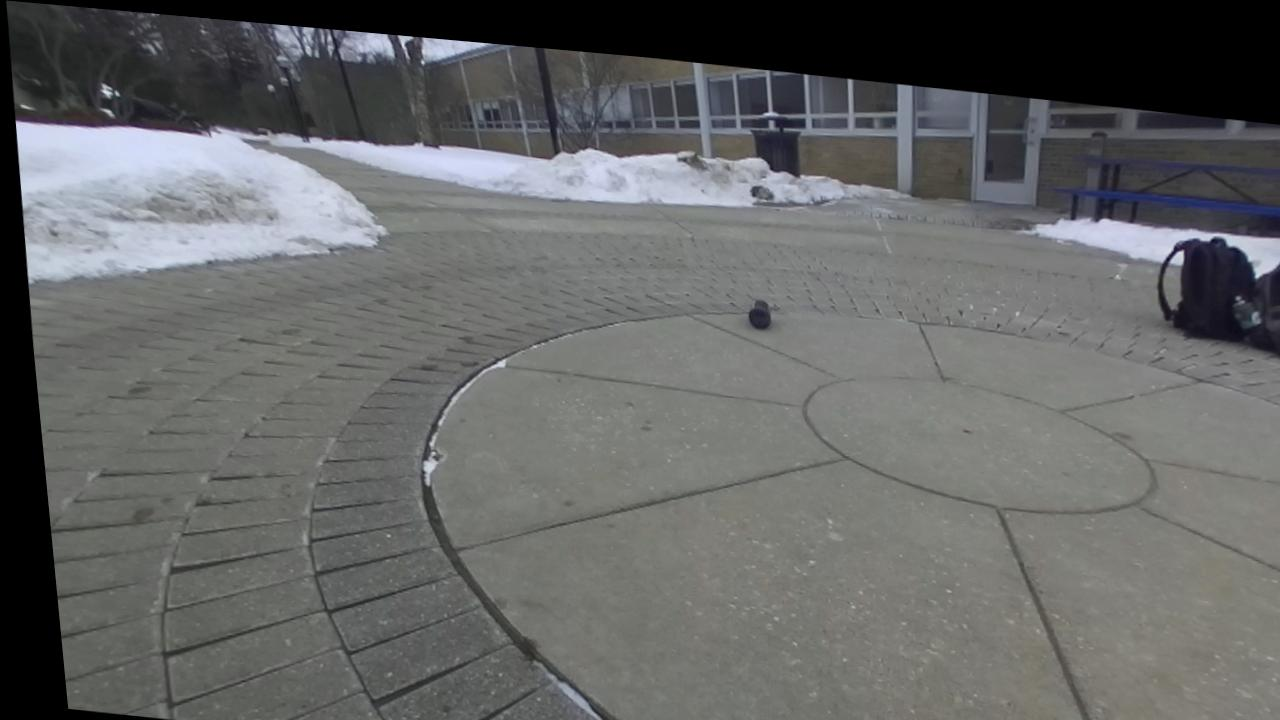bottle: (747, 300, 771, 329)
